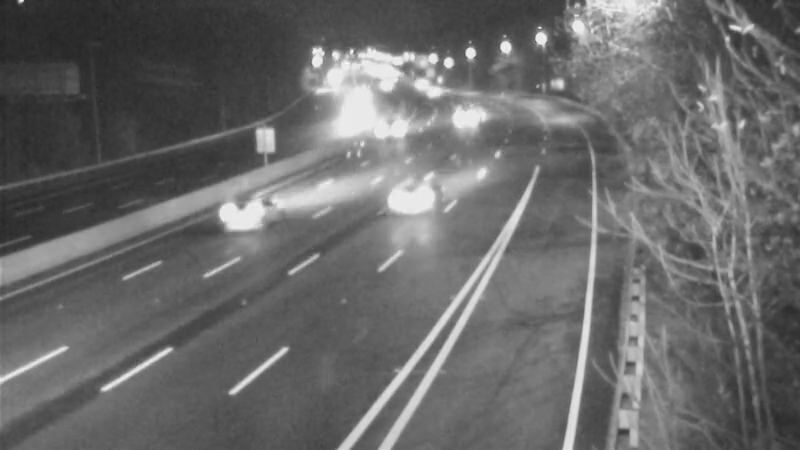vehicle: (370, 158, 450, 238), (194, 172, 274, 252), (407, 67, 457, 117), (438, 87, 488, 137), (369, 101, 419, 151)
